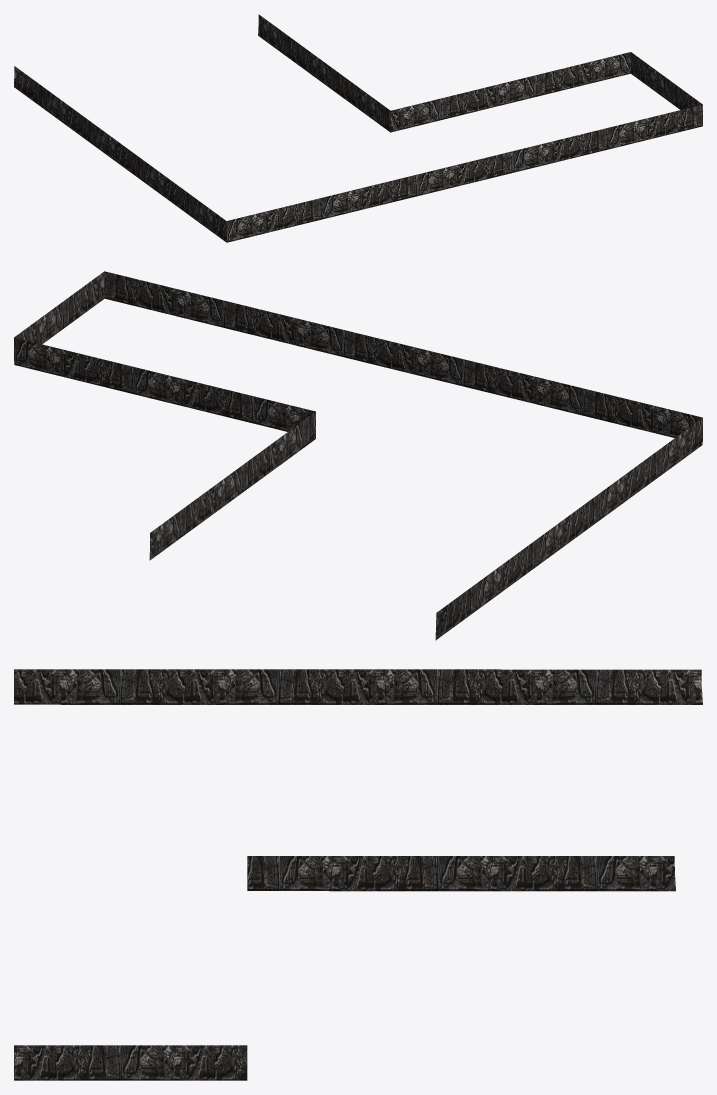
Rendered from CH09_SMAUG_PLAYSURFACE_LAIR98.fbx.
3 renders of one model, top to bottom at view 1: azimuth 30°, elevation 25°; view 2: azimuth 150°, elevation 25°; view 3: azimuth 270°, elevation 25°, orthographic. The views are drawn at different scales.
Parts seen in each view (by area): view 1: CH09_SMAUG_PLAYSURFACE_LAIR98; view 2: CH09_SMAUG_PLAYSURFACE_LAIR98; view 3: CH09_SMAUG_PLAYSURFACE_LAIR98.
Boxes of the visible parts, left/top/right/bottom form: CH09_SMAUG_PLAYSURFACE_LAIR98: left=14, top=14, right=702, bottom=242; CH09_SMAUG_PLAYSURFACE_LAIR98: left=14, top=271, right=702, bottom=640; CH09_SMAUG_PLAYSURFACE_LAIR98: left=14, top=669, right=702, bottom=1080.
Bounding box in the file's own units: 318535 × 14139 × 246421.
Materials: 1 (1 with a texture image).
